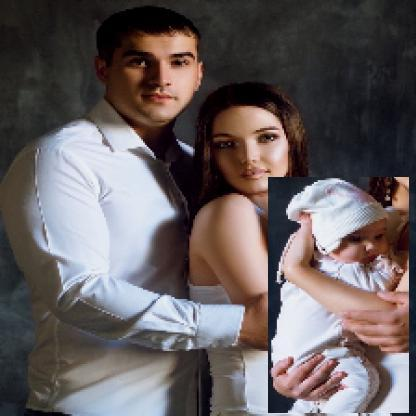child: (269, 178, 412, 415)
